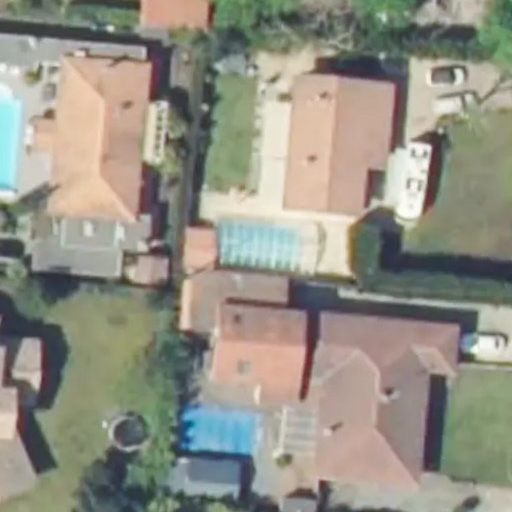pool: (171, 403, 268, 457), (217, 217, 308, 273), (1, 85, 20, 200)
